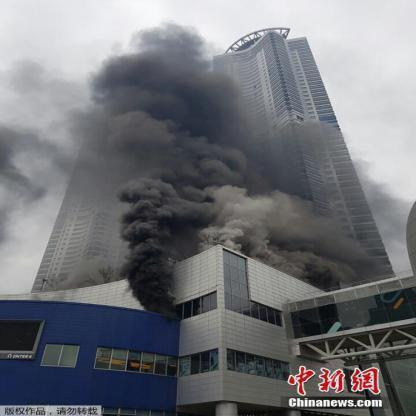smoke: (119, 132, 247, 195), (107, 63, 220, 130), (210, 197, 314, 252), (218, 108, 278, 190), (61, 120, 136, 184), (124, 190, 180, 247), (130, 247, 178, 305)
